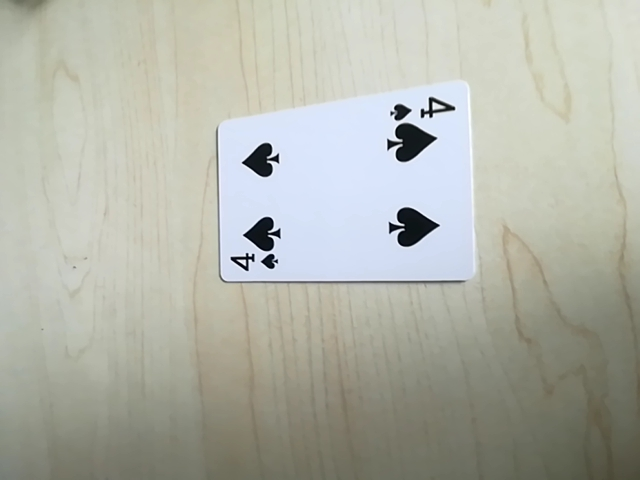ht 4: (386, 91, 457, 121), (224, 248, 283, 278)
